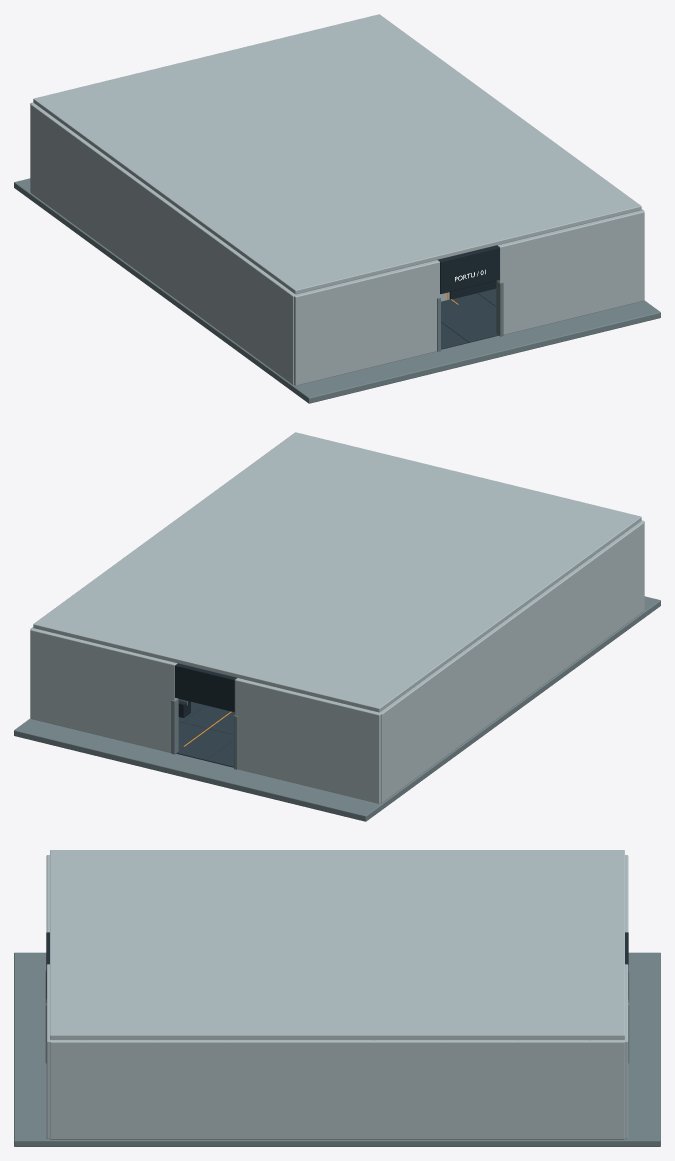
File: quarantine_clinic.glb
3 views of the same model, one above another, from view 1: azimuth 30°, elevation 25°; view 2: azimuth 150°, elevation 25°; view 3: azimuth 270°, elevation 25° (orthographic). The views are drawn at different scales.
Visible parts, largest first — view 1: roof_cutaway_mesh, front_cutaway_mesh, structure_mesh, floor_tiles_mesh; view 2: roof_cutaway_mesh, structure_mesh, floor_tiles_mesh; view 3: roof_cutaway_mesh, structure_mesh, floor_tiles_mesh, front_cutaway_mesh.
Part boxes in pixels (left/top/right/bottom): roof_cutaway_mesh: left=33, top=14, right=641, bottom=294; front_cutaway_mesh: left=294, top=210, right=644, bottom=385; structure_mesh: left=30, top=102, right=644, bottom=384; floor_tiles_mesh: left=14, top=178, right=660, bottom=403; roof_cutaway_mesh: left=33, top=432, right=641, bottom=712; structure_mesh: left=30, top=522, right=644, bottom=803; floor_tiles_mesh: left=14, top=596, right=660, bottom=821; roof_cutaway_mesh: left=50, top=850, right=624, bottom=1039; structure_mesh: left=50, top=855, right=629, bottom=1139; floor_tiles_mesh: left=14, top=952, right=660, bottom=1146; front_cutaway_mesh: left=45, top=855, right=52, bottom=1138.
Size of the model in its own units: 24.8 by 6.78 by 36.
